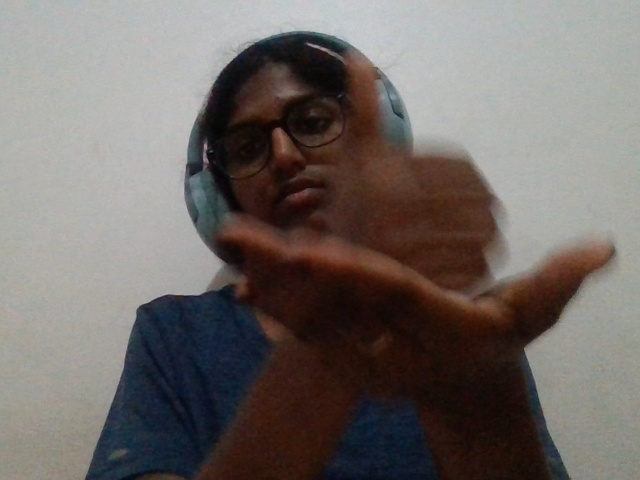Help: (166, 31, 629, 458)
